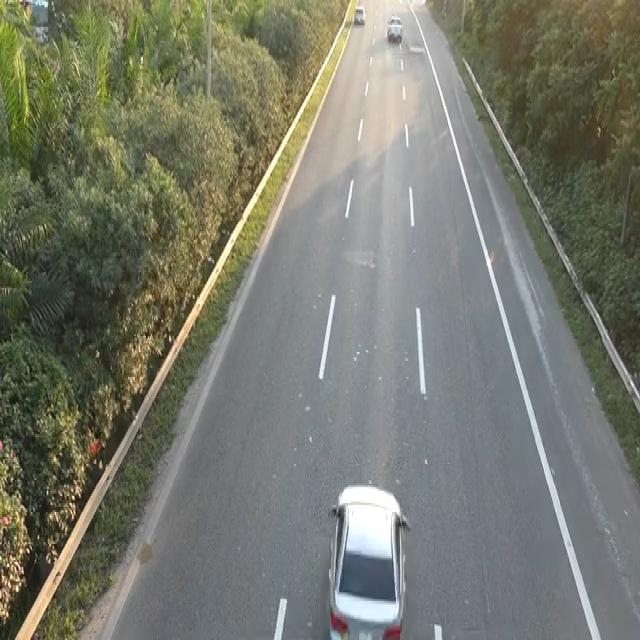bus: (324, 476, 412, 634), (353, 3, 366, 25)
car: (385, 12, 403, 42)
